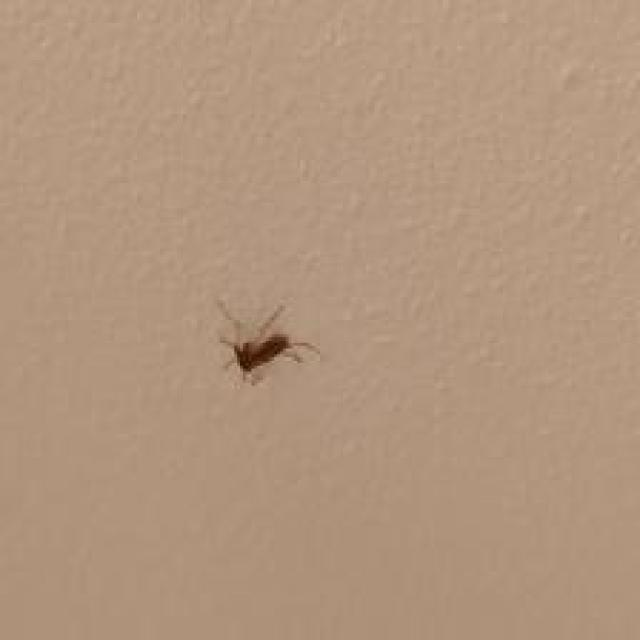Culex: (214, 297, 320, 386)
